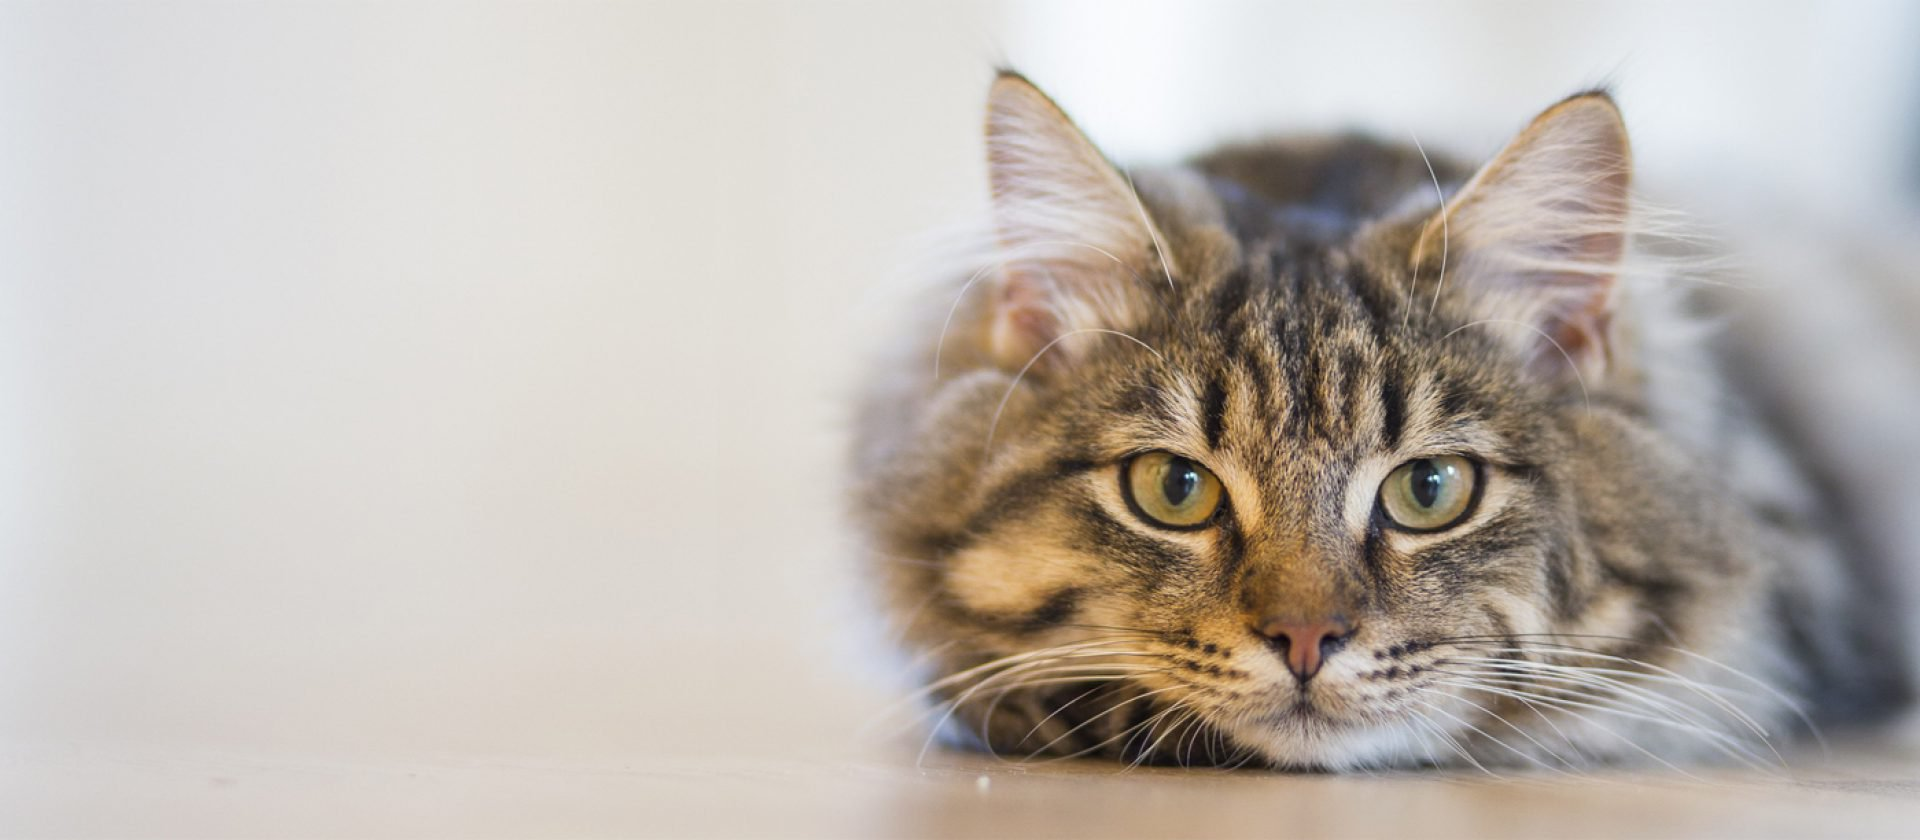cat: (901, 50, 1845, 752)
